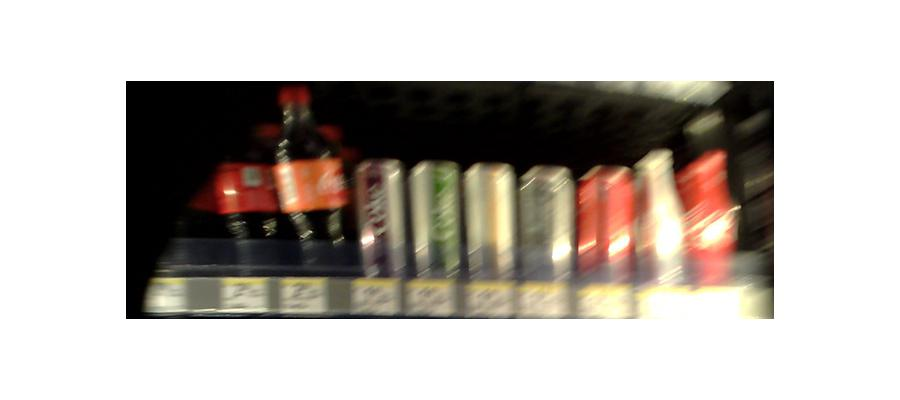bottle: (276, 77, 346, 264), (216, 128, 282, 279), (581, 158, 638, 308), (517, 165, 576, 303), (641, 151, 690, 300), (687, 148, 738, 285), (466, 160, 517, 295), (353, 156, 405, 282), (412, 156, 459, 285)
